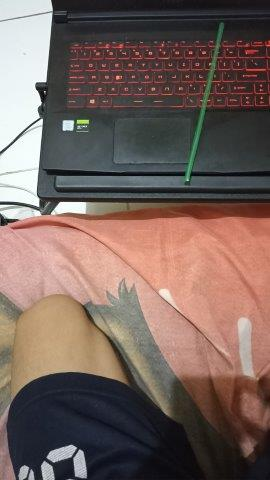sedotan: (185, 22, 224, 181)
